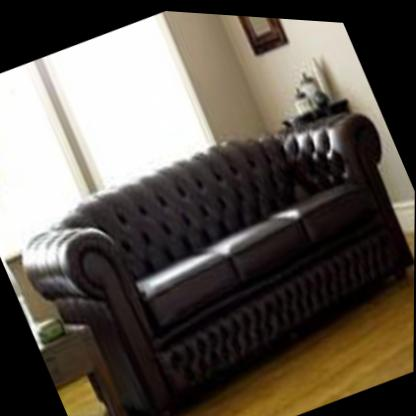Sofa: (1, 66, 416, 416)
